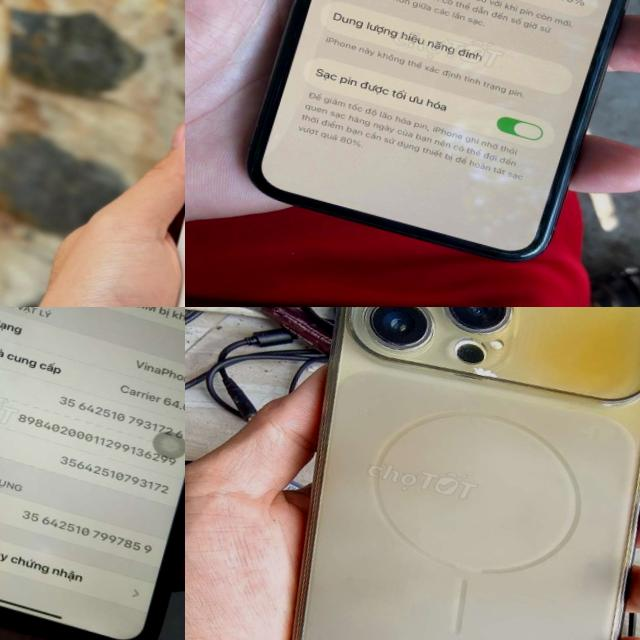gen_11: (248, 0, 626, 260)
gen_12_13: (142, 0, 185, 307)
gen_14: (228, 307, 640, 640)
gen_x_xs: (0, 307, 185, 640)
